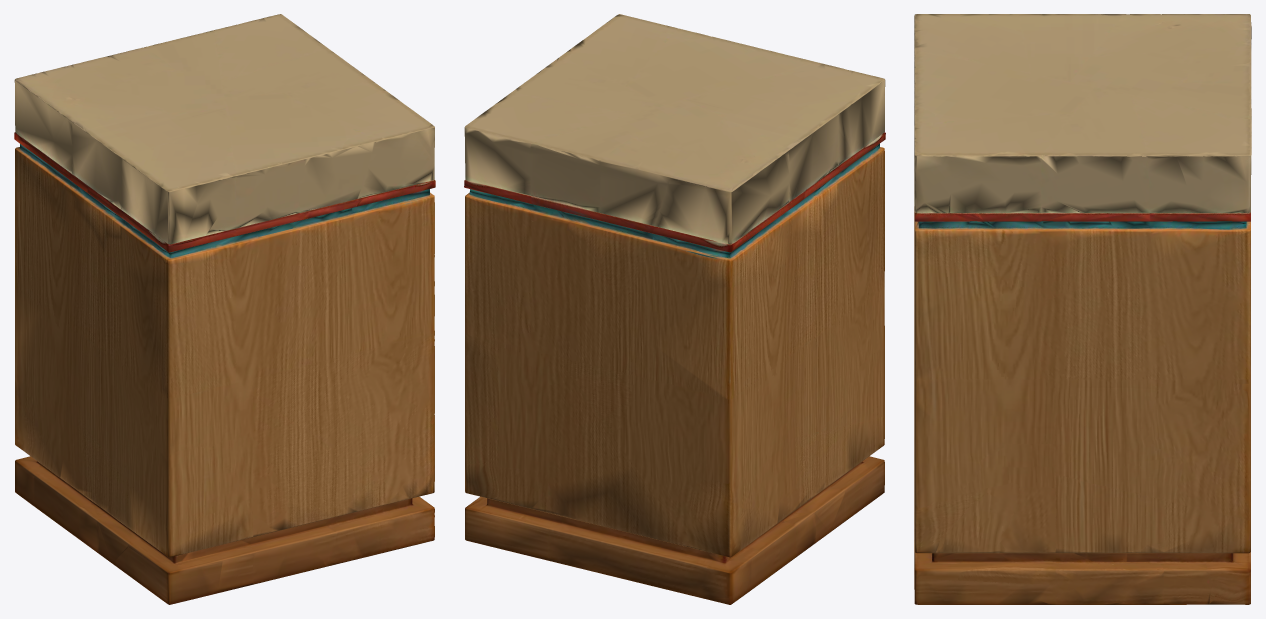
File: stand.glb
3 renders of one model, left to right at view 1: azimuth 30°, elevation 25°; view 2: azimuth 150°, elevation 25°; view 3: azimuth 270°, elevation 25°, orthographic. The views are drawn at different scales.
Parts seen in each view (by area): view 1: tripo_node_d1228f78-8f2e-4c35-bc5f-21698b70aaa5; view 2: tripo_node_d1228f78-8f2e-4c35-bc5f-21698b70aaa5; view 3: tripo_node_d1228f78-8f2e-4c35-bc5f-21698b70aaa5.
Boxes of the visible parts, bbox=[...] form: tripo_node_d1228f78-8f2e-4c35-bc5f-21698b70aaa5: bbox=[14, 14, 435, 604]; tripo_node_d1228f78-8f2e-4c35-bc5f-21698b70aaa5: bbox=[464, 14, 885, 604]; tripo_node_d1228f78-8f2e-4c35-bc5f-21698b70aaa5: bbox=[914, 14, 1251, 604].
Bounding box in the file's own units: 0.6636 × 0.98 × 0.666.
1 material, 1 textured.
